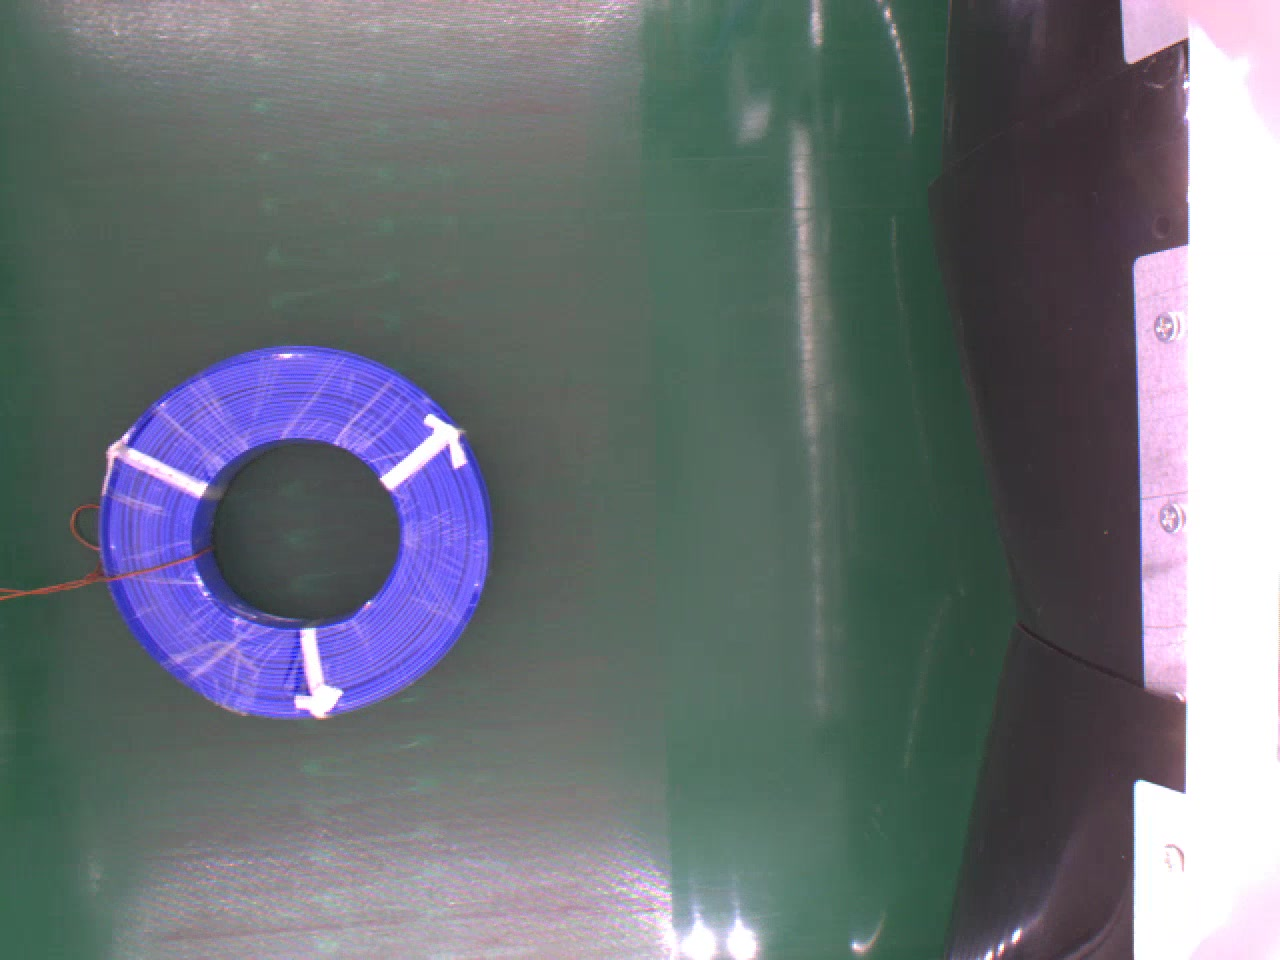blue: (98, 349, 490, 722)
